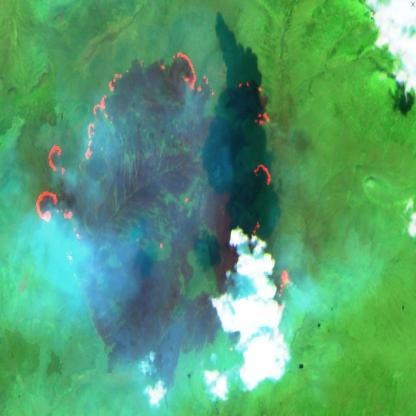fire: (33, 47, 292, 328)
